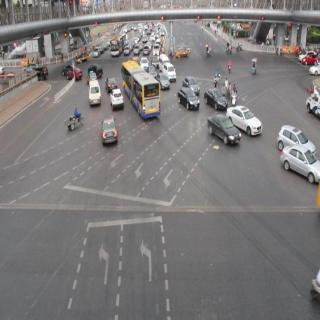BigCar: (122, 69, 160, 121)
Car: (280, 146, 318, 187), (207, 113, 237, 151), (234, 102, 263, 140), (177, 87, 198, 114), (205, 85, 225, 111), (87, 79, 103, 109), (102, 116, 118, 143), (60, 66, 81, 83), (110, 89, 124, 111), (104, 74, 118, 94), (174, 44, 191, 60), (302, 52, 317, 67), (160, 72, 169, 90)
